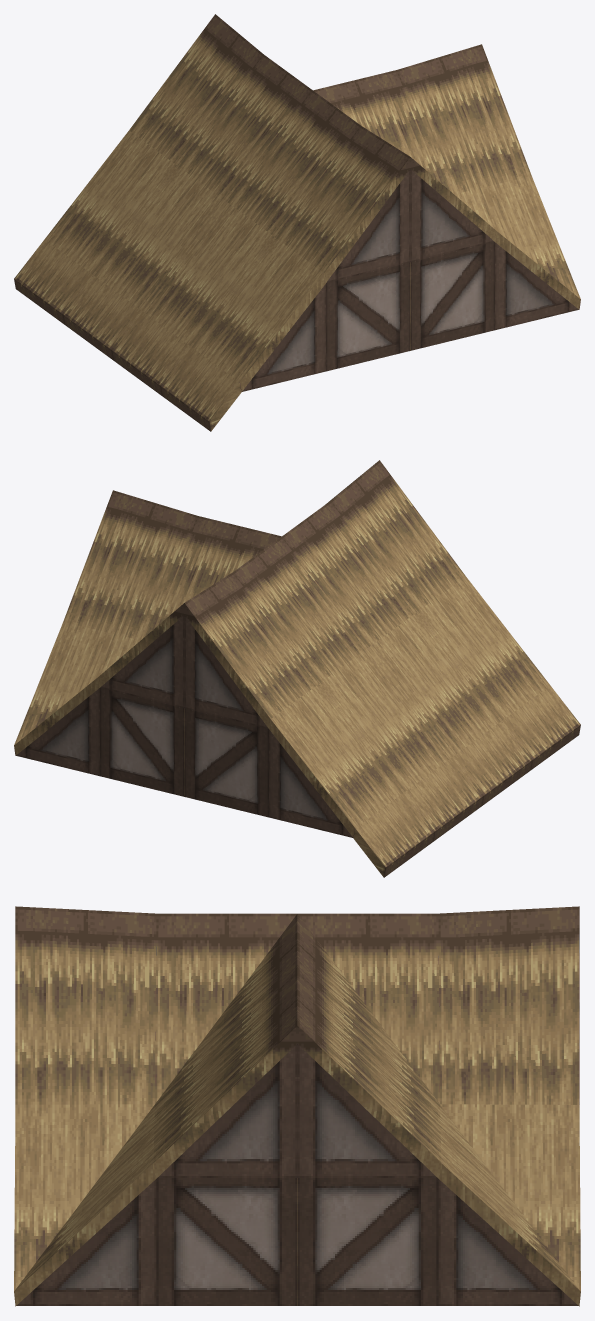
Rendered from roof_straw_T.glb.
The picture shows the model from 3 angles, top to bottom: view 1: azimuth 30°, elevation 25°; view 2: azimuth 150°, elevation 25°; view 3: azimuth 270°, elevation 25°; orthographic projection. The views are drawn at different scales.
Parts seen in each view (by area): view 1: roof_straw_T; view 2: roof_straw_T; view 3: roof_straw_T.
Part boxes in pixels (x1=…): roof_straw_T: x1=14, y1=14, x2=580, y2=431; roof_straw_T: x1=14, y1=460, x2=580, y2=877; roof_straw_T: x1=14, y1=906, x2=580, y2=1306.
Bounding box in the file's own units: 4.39 × 2.56 × 4.02.
Materials: 1 (1 with a texture image).
